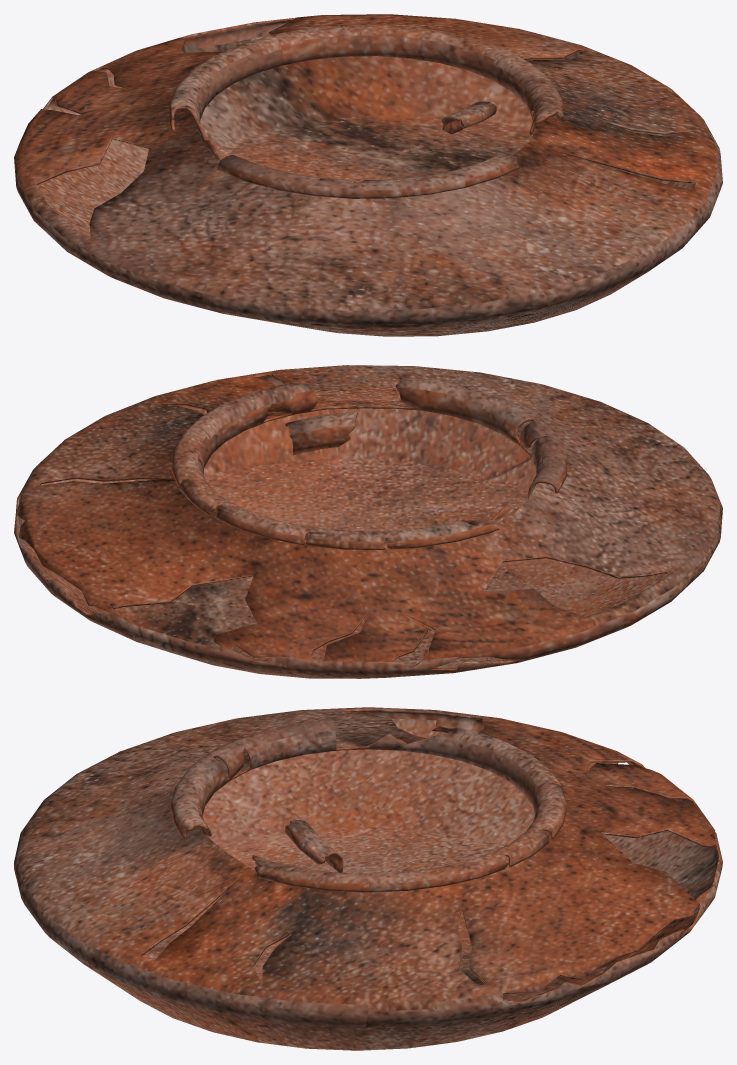
3 views of the same model, one above another, from view 1: azimuth 30°, elevation 25°; view 2: azimuth 150°, elevation 25°; view 3: azimuth 270°, elevation 25° (orthographic).
Parts seen in each view (by area): view 1: Circle.001; view 2: Circle.001; view 3: Circle.001.
Boxes of the visible parts, x1=… form: Circle.001: x1=14, y1=14, x2=722, y2=336; Circle.001: x1=14, y1=365, x2=722, y2=678; Circle.001: x1=14, y1=707, x2=722, y2=1050.
Bounding box in the file's own units: 273 × 54.8 × 272.
Materials: 1 (1 with a texture image).
